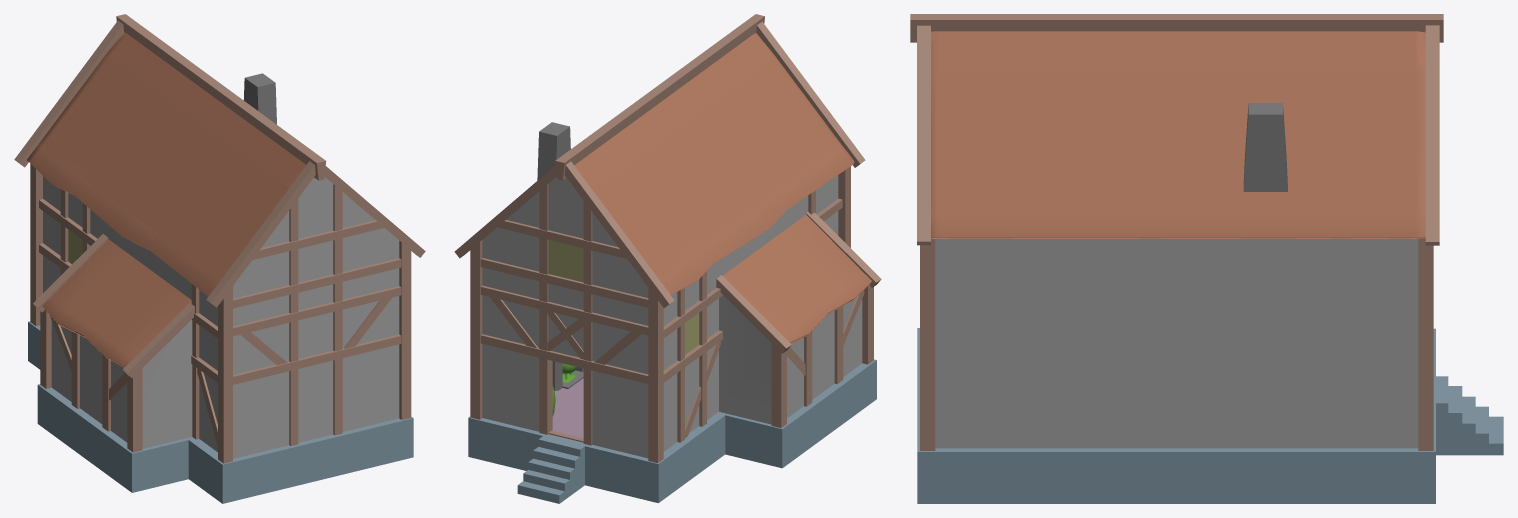
File: house.fbx
3 views of the same model, side by side, from view 1: azimuth 30°, elevation 25°; view 2: azimuth 150°, elevation 25°; view 3: azimuth 270°, elevation 25° (orthographic). The views are drawn at different scales.
Visible parts, largest first — view 1: pPlane1, pPlane2, pPlane4, pCube8 (×3), pCube10 (×3), pCube9, beam10, beam11, pCube43, pCube45, pCube11, pCube16 (+14 smaller); view 2: pPlane1, pPlane4, pPlane2, pCube8 (×3), pCube10 (×3), pCube9, beam13, beam12, pCube4, pCube13, pCube12, pCube46 (+14 smaller); view 3: pPlane1, pPlane4, pCube9, pCube8 (×2), pCube10 (×2), pCube4.
Boxes of the visible parts, bbox=[...] form: pPlane1: bbox=[27, 32, 399, 458]; pPlane2: bbox=[42, 239, 192, 448]; pPlane4: bbox=[28, 321, 413, 503]; pCube8 (×3): bbox=[30, 163, 411, 463]; pCube10 (×3): bbox=[14, 20, 425, 307]; pCube9: bbox=[116, 14, 326, 180]; beam10: bbox=[333, 184, 342, 435]; beam11: bbox=[289, 199, 298, 445]; pCube43: bbox=[233, 258, 401, 308]; pCube45: bbox=[233, 286, 401, 336]; pCube11: bbox=[233, 334, 401, 384]; pCube16: bbox=[123, 301, 194, 378]; pPlane1: bbox=[482, 33, 854, 458]; pPlane4: bbox=[468, 359, 876, 503]; pPlane2: bbox=[719, 215, 871, 424]; pCube8 (×3): bbox=[470, 166, 850, 462]; pCube10 (×3): bbox=[454, 21, 865, 307]; pCube9: bbox=[555, 14, 764, 180]; beam13: bbox=[539, 184, 552, 434]; beam12: bbox=[583, 201, 592, 445]; pCube4: bbox=[537, 122, 583, 390]; pCube13: bbox=[480, 258, 648, 307]; pCube12: bbox=[480, 285, 648, 335]; pCube46: bbox=[480, 334, 648, 383]; pPlane1: bbox=[931, 31, 1425, 448]; pPlane4: bbox=[917, 328, 1503, 503]; pCube9: bbox=[910, 14, 1443, 42]; pCube8 (×2): bbox=[920, 239, 1433, 450]; pCube10 (×2): bbox=[917, 25, 1439, 245]; pCube4: bbox=[1243, 103, 1287, 191].
Bounding box in the file's own units: 683 × 791 × 999.
